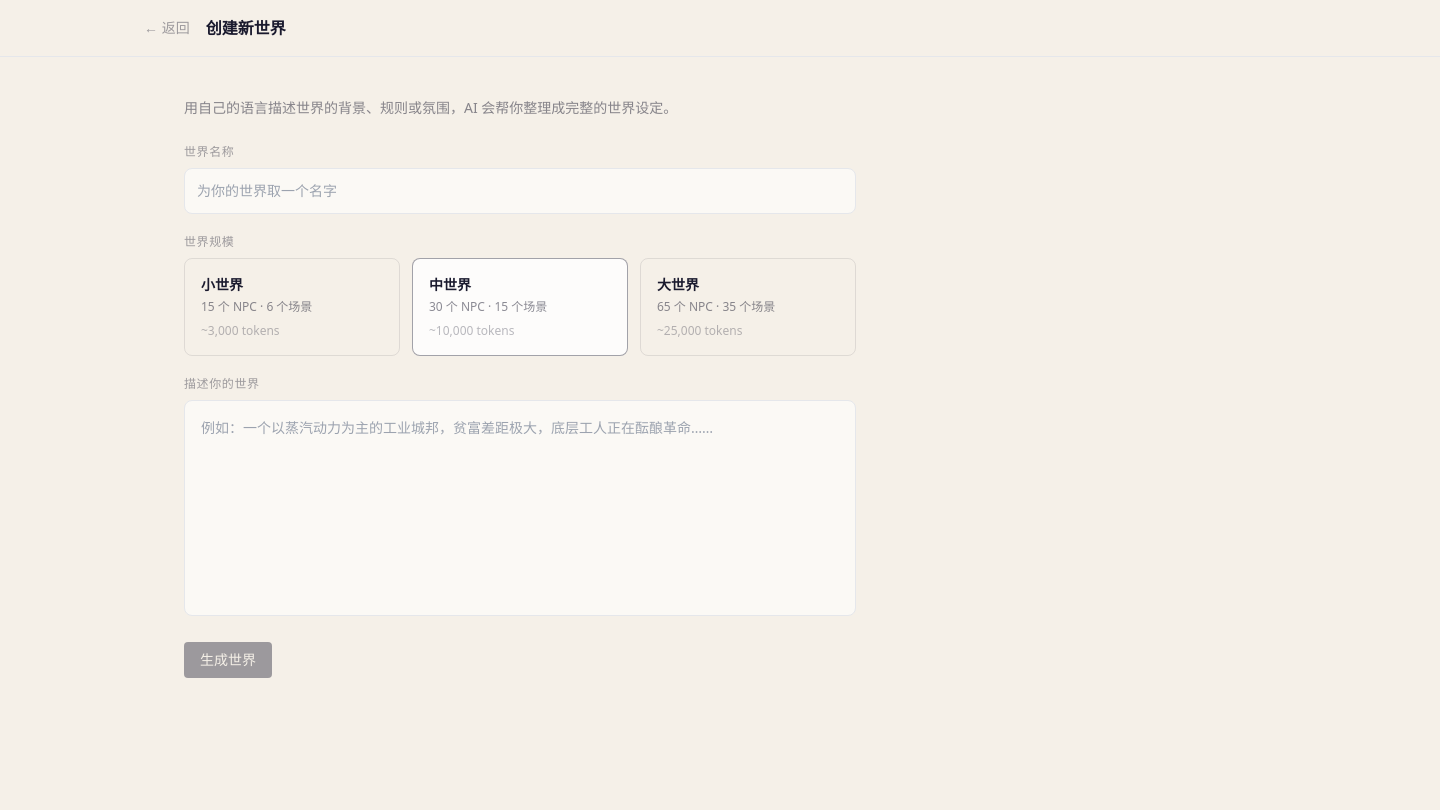
it: shows error alert on 502
The width and height of the screenshot is (1440, 810).
In the text box with placeholder "例如：一个以蒸汽动力为主的工业城邦，贫富差距极大，底层工人正在酝酿革命……": (520, 508) [184,400,856,616], type "描述"
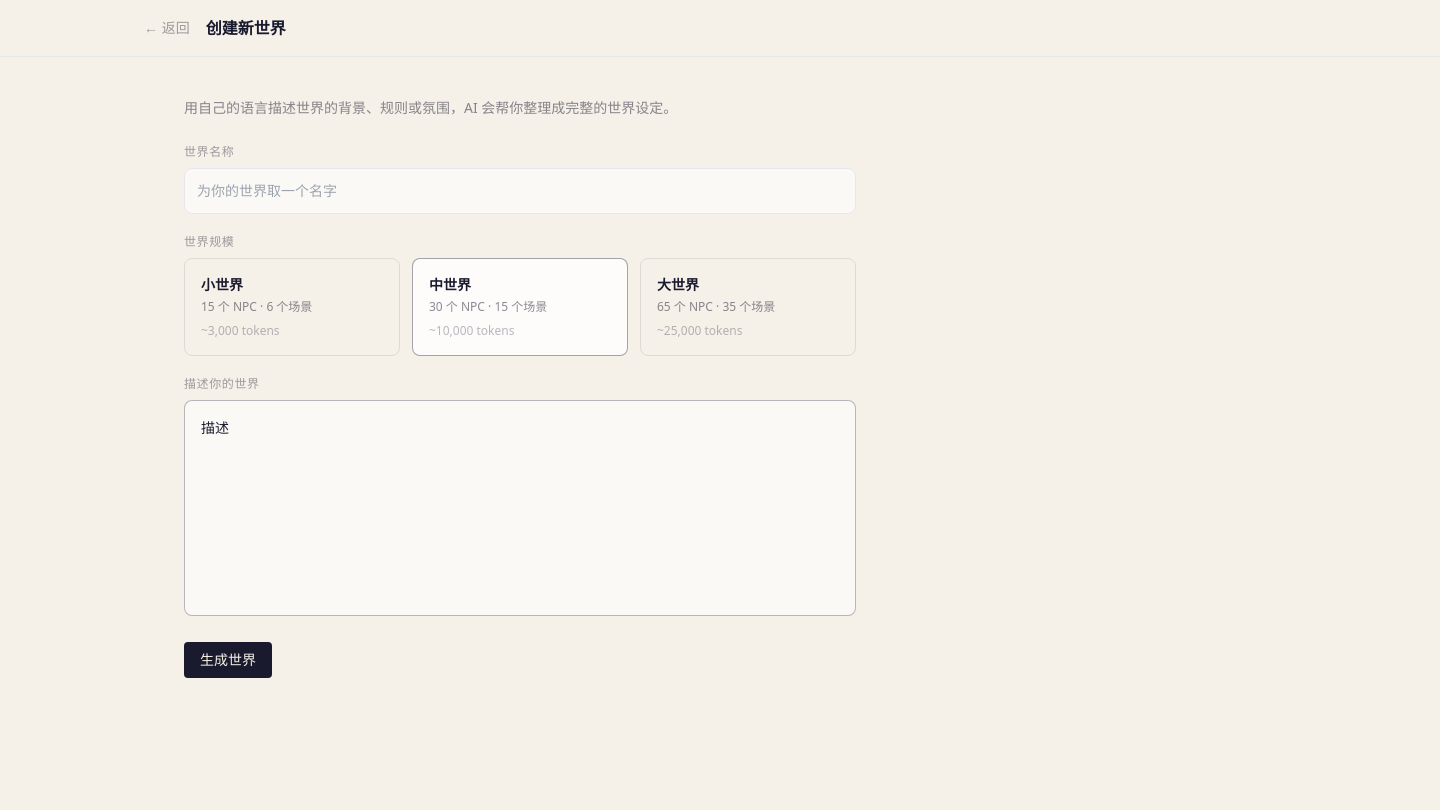
Click the button "生成世界": (228, 660) [184,642,272,678]
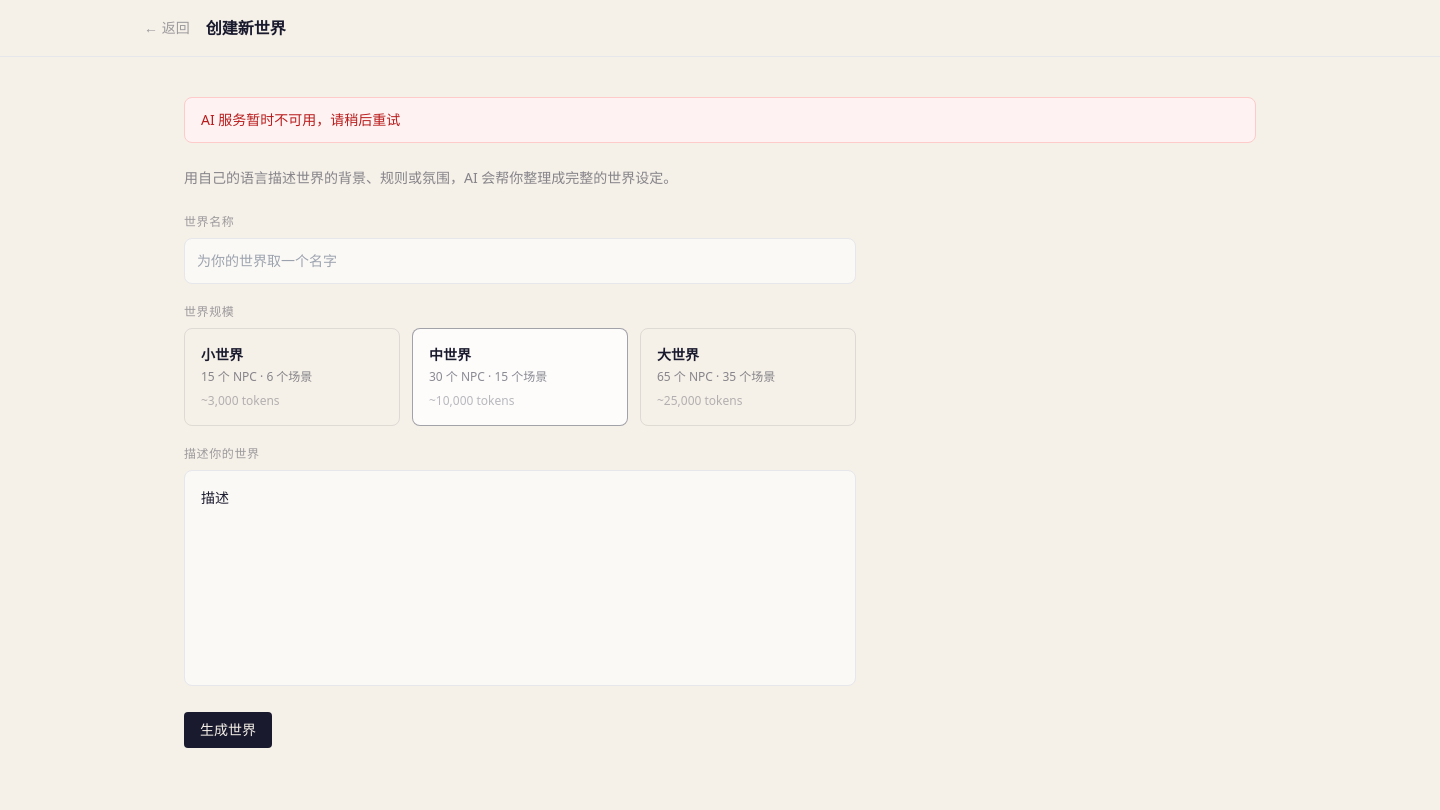
Check: the message "AI 服务暂时不可用，请稍后重试" is shown, box [184,97,1256,143]
Check: the text "AI 服务暂时不可用，请稍后重试" is shown, box [201,110,400,129]
